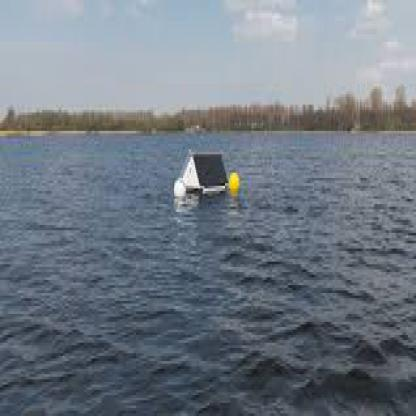buoy: (170, 141, 245, 220)
